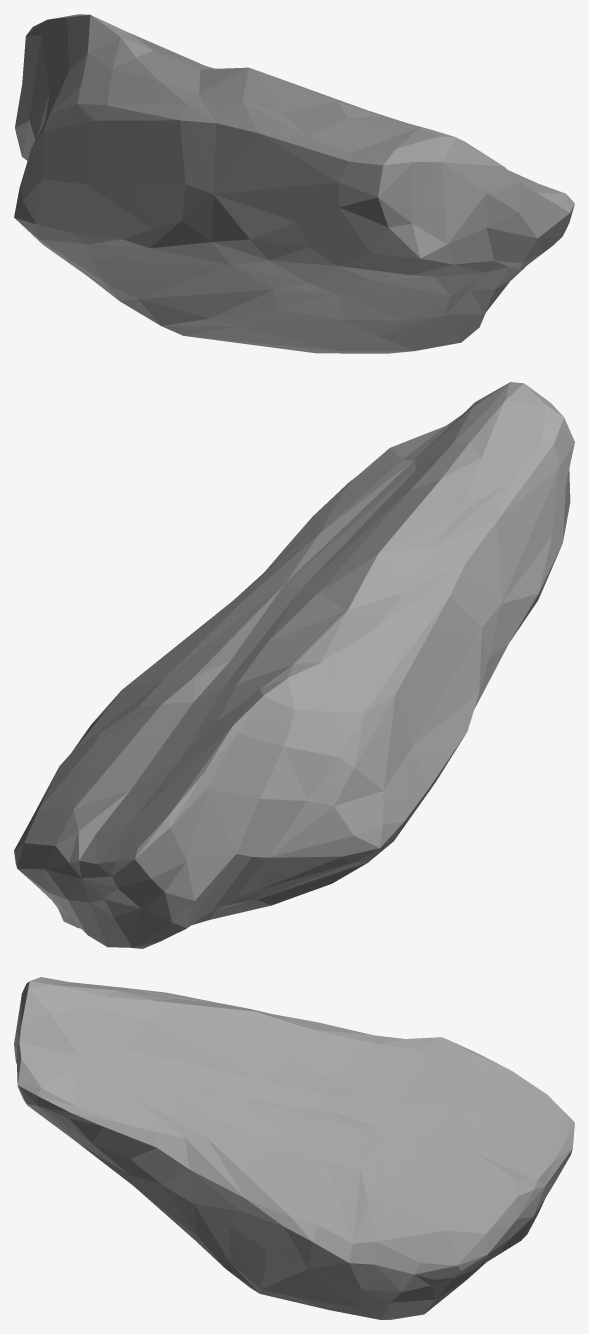
Rendered from Cavern_Boulder-03.fbx.
3 renders of one model, top to bottom at view 1: azimuth 30°, elevation 25°; view 2: azimuth 150°, elevation 25°; view 3: azimuth 270°, elevation 25°, orthographic. The views are drawn at different scales.
Visible parts, largest first — view 1: Cavern_Boulder-03; view 2: Cavern_Boulder-03; view 3: Cavern_Boulder-03.
Part boxes in pixels (x1,y1,x2,y2): Cavern_Boulder-03: (14, 14, 574, 353); Cavern_Boulder-03: (14, 382, 574, 948); Cavern_Boulder-03: (14, 977, 574, 1319).
Size of the model in its own units: 698 by 712 by 1325.
Materials: 1 (1 with a texture image).
